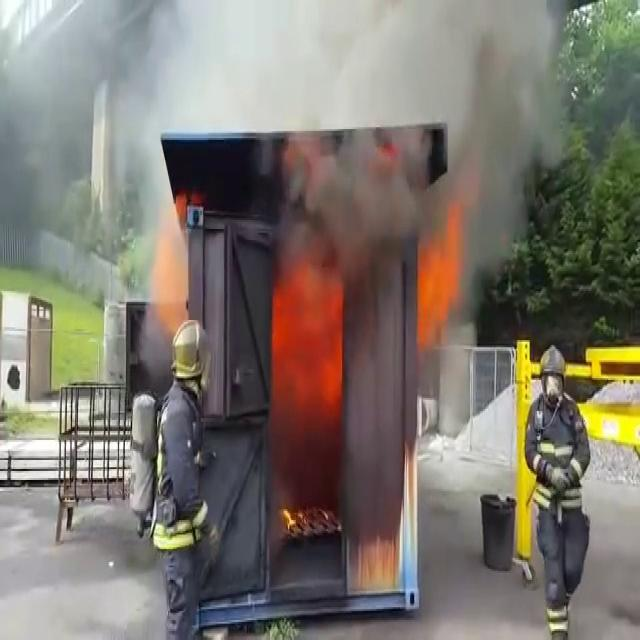Smoke: (255, 78, 526, 352)
